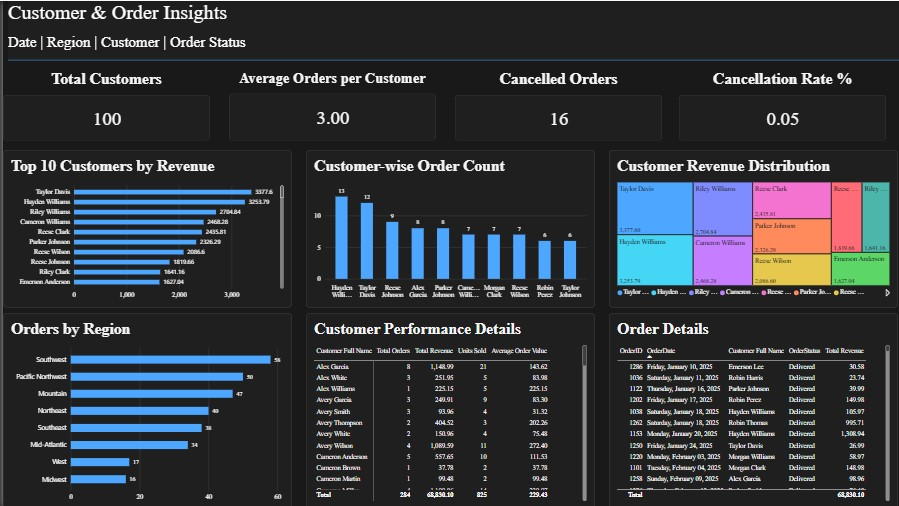

What the dashboard file says about the page in this screenshot:
{"tool":"powerbi","page":{"name":"Page 3","canvas":[1920,1080],"ordinal":2},"visuals":[{"type":"shape","box":[10.1,0,1909.9,126],"z":0},{"type":"textbox","box":[10.6,0,1909.1,125.4],"z":1000},{"type":"cardVisual","title":"Total Customers","fields":{"Data":["_Measures.Total Customers"]},"box":[0,146.1,440,150],"z":2000},{"type":"cardVisual","title":"Average Orders per Customer","fields":{"Data":["_Measures.Average Orders per Customer"]},"box":[481.3,146.1,440,150],"z":3000},{"type":"cardVisual","title":"Cancelled Orders","fields":{"Data":["_Measures.Cancelled Orders"]},"box":[960,146.1,440,150],"z":4000},{"type":"cardVisual","title":"\tCancellation Rate %","fields":{"Data":["_Measures.Cancellation Rate %"]},"box":[1436.2,146.1,440,150],"z":5000},{"type":"clusteredBarChart","title":"Top 10 Customers by Revenue","fields":{"Category":["Customers.Customer Full Name"],"Y":["_Measures.Total Revenue"]},"box":[0,317.5,614,335],"z":6000},{"type":"clusteredColumnChart","title":"Customer-wise Order Count","fields":{"Category":["Customers.Customer Full Name"],"Y":["_Measures.Customer Order Count"]},"box":[643.8,317.5,614,335],"z":7000},{"type":"treemap","title":"Customer Revenue Distribution","fields":{"Group":["Customers.Customer Full Name"],"Values":["_Measures.Total Revenue"]},"box":[1287.6,317.5,614,335],"z":8000},{"type":"clusteredBarChart","title":"Orders by Region","fields":{"Category":["Regions.RegionName"],"Y":["_Measures.All Orders"]},"box":[0,662.5,613.8,417.5],"z":9000},{"type":"pivotTable","title":"Customer Performance Details","fields":{"Rows":["Customers.Customer Full Name"],"Values":["_Measures.Total Orders","_Measures.Total Revenue","_Measures.Units Sold","_Measures.Average Order Value"]},"box":[644,663,614,417],"z":10000},{"type":"tableEx","title":"Order Details","fields":{"Values":["Orders.OrderID","Orders.OrderDate","Customers.Customer Full Name","Orders.OrderStatus","_Measures.Total Revenue"]},"box":[1288,663,614,417],"z":11000}]}

Visuals, with their boxes in screenshot pixels (x1, y1, x2, y2), scaled from the page's 1920x1080 canvas onto the 899x506 screenshot:
shape: <box>5,0,898,59</box>
textbox: <box>5,0,898,59</box>
"Total Customers" cardVisual: <box>0,68,206,139</box>
"Average Orders per Customer" cardVisual: <box>225,68,431,139</box>
"Cancelled Orders" cardVisual: <box>450,68,656,139</box>
"	Cancellation Rate %" cardVisual: <box>672,68,878,139</box>
"Top 10 Customers by Revenue" clusteredBarChart: <box>0,149,287,306</box>
"Customer-wise Order Count" clusteredColumnChart: <box>301,149,589,306</box>
"Customer Revenue Distribution" treemap: <box>603,149,890,306</box>
"Orders by Region" clusteredBarChart: <box>0,310,287,505</box>
"Customer Performance Details" pivotTable: <box>302,311,589,505</box>
"Order Details" tableEx: <box>603,311,891,505</box>
